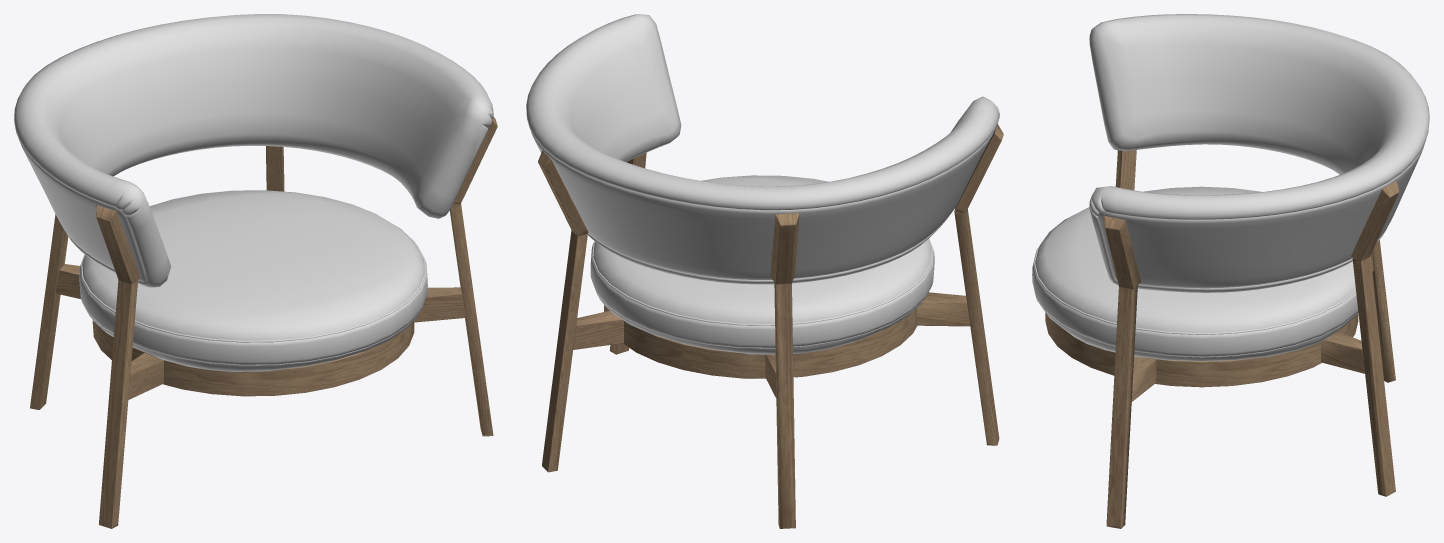
3 renders of one model, left to right at view 1: azimuth 30°, elevation 25°; view 2: azimuth 150°, elevation 25°; view 3: azimuth 270°, elevation 25°, orthographic. The views are drawn at different scales.
Parts seen in each view (by area): view 1: seat, Structure; view 2: seat, Structure; view 3: seat, Structure.
Part boxes in pixels (left/top/right/bottom): seat: left=14, top=14, right=493, bottom=371; Structure: left=30, top=117, right=497, bottom=528; seat: left=526, top=14, right=999, bottom=354; Structure: left=538, top=124, right=1003, bottom=528; seat: left=1032, top=14, right=1429, bottom=361; Structure: left=1045, top=150, right=1399, bottom=528.
Bounding box in the file's own units: 0.8424 × 0.6656 × 0.7239.
2 materials, 1 textured.
